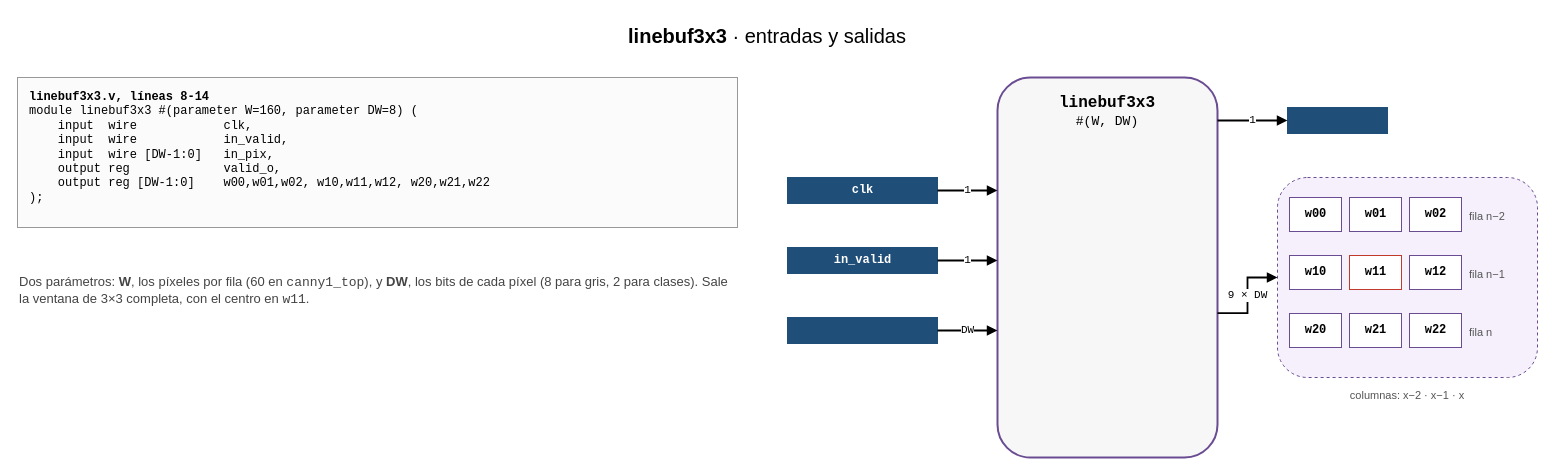
The diagram is 1565 pixels wide and 475 high, and some of its shapes have lost their labels. The shapes that lost their labels are listed below. From the top down, each one's centre as x and y in pixels, then its label:
point 1337,120: valid_o
point 862,330: in_pix[DW-1:0]
